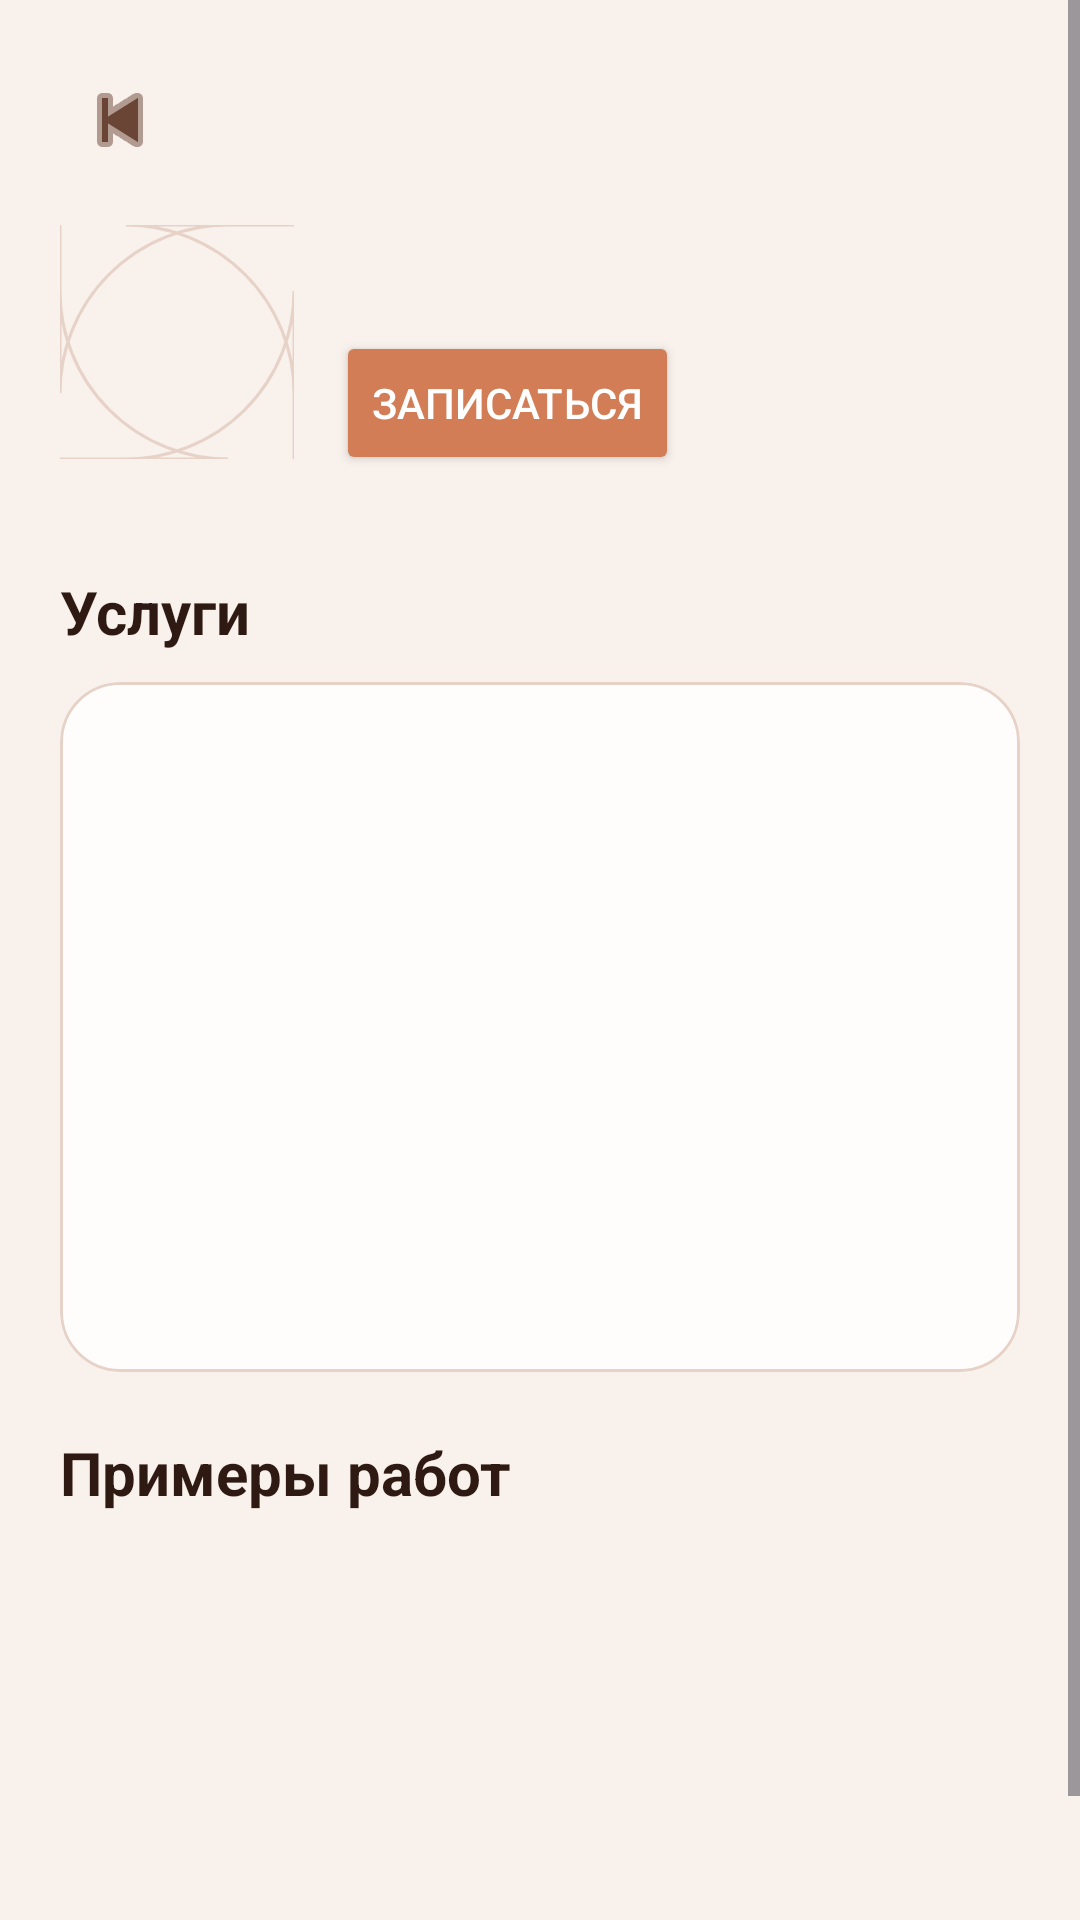

Screen size 1080*1920. Icon name, then its center in pixels as (x=x, y=y):
Назад: (x=120, y=120)
